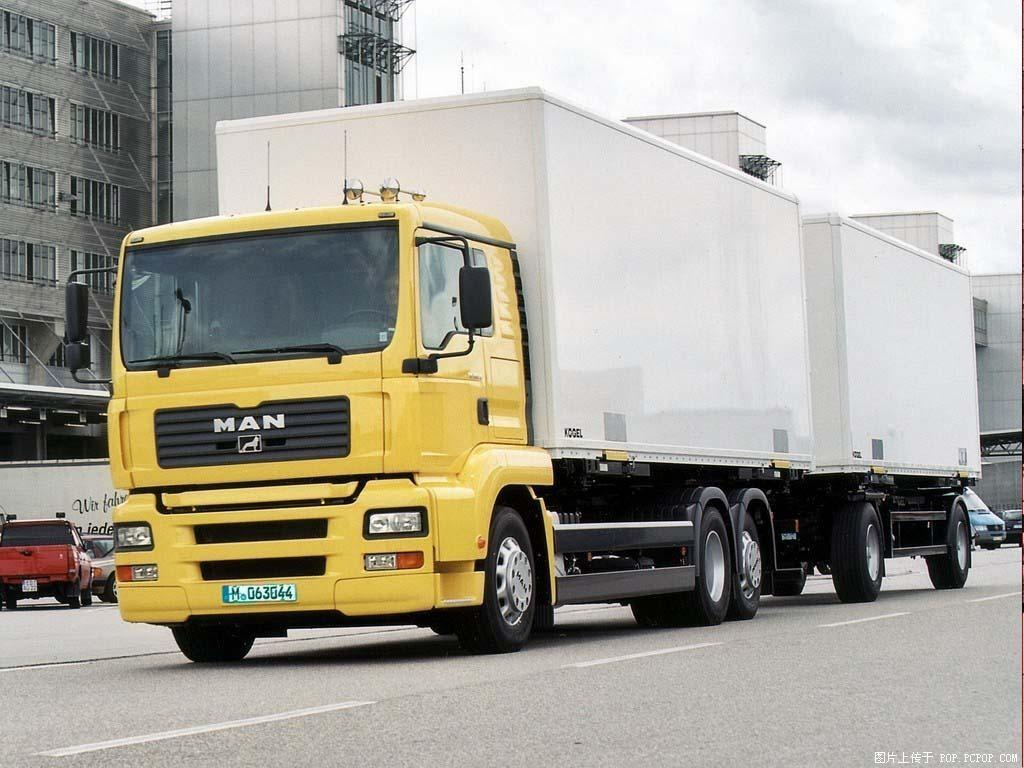truck: (100, 73, 989, 670)
